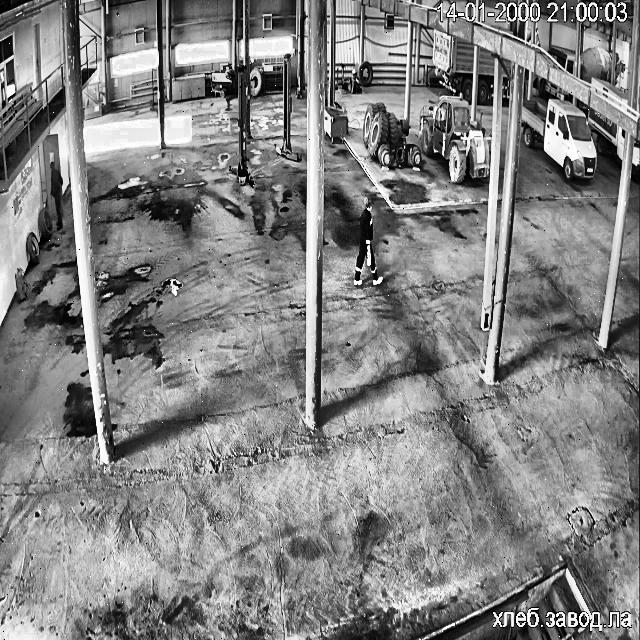class4: (354, 196, 382, 284), (50, 162, 62, 228)
class6: (420, 96, 489, 181), (362, 102, 420, 166)
class7: (522, 100, 596, 180), (432, 28, 473, 100), (588, 108, 624, 157), (580, 46, 621, 82), (477, 48, 494, 102), (537, 77, 572, 100), (592, 80, 628, 102), (548, 45, 575, 73), (500, 60, 510, 98), (632, 140, 640, 177)
tractor: (16, 268, 26, 300)
truck: (229, 66, 252, 186), (275, 52, 300, 161), (228, 68, 232, 73)
